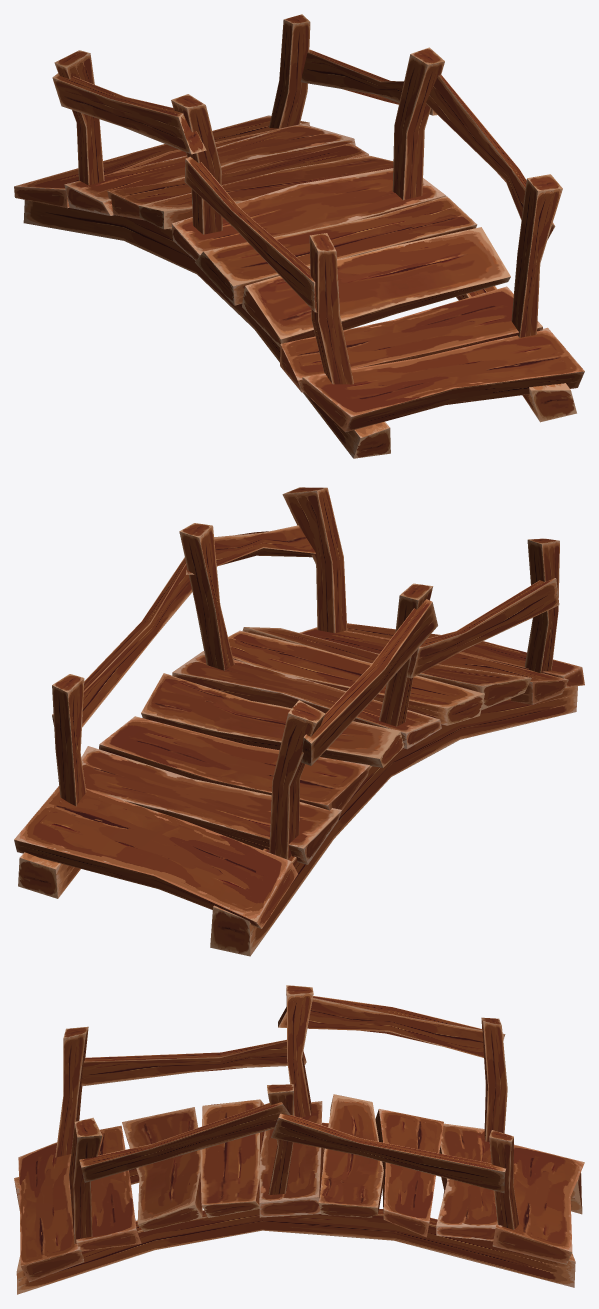
The model's file is SM_PROP_bridge_wood_04.fbx.
3 renders of one model, top to bottom at view 1: azimuth 30°, elevation 25°; view 2: azimuth 150°, elevation 25°; view 3: azimuth 270°, elevation 25°, orthographic. The views are drawn at different scales.
Parts seen in each view (by area): view 1: SM_PROP_bridge_wood_04; view 2: SM_PROP_bridge_wood_04; view 3: SM_PROP_bridge_wood_04.
Part boxes in pixels (x1,y1,x2,y2): SM_PROP_bridge_wood_04: [14, 14, 584, 458]; SM_PROP_bridge_wood_04: [14, 487, 584, 956]; SM_PROP_bridge_wood_04: [14, 985, 584, 1294].
Bounding box in the file's own units: 202 × 177 × 429.
